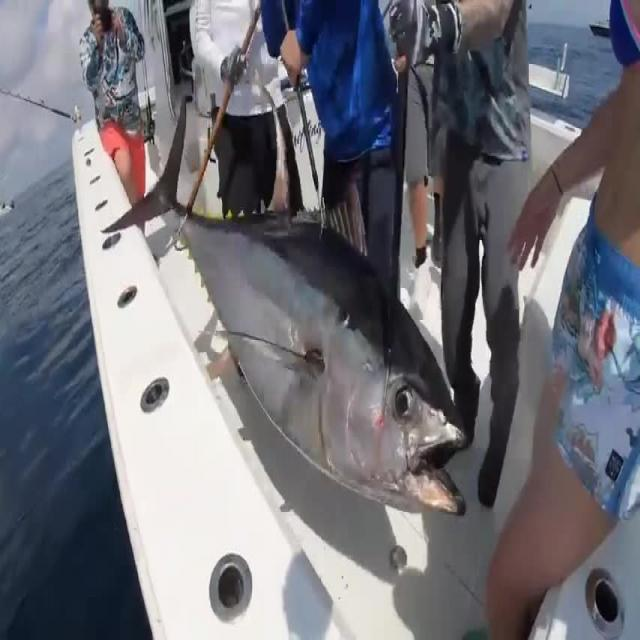Yellowfin Tuna: (99, 74, 469, 522)
